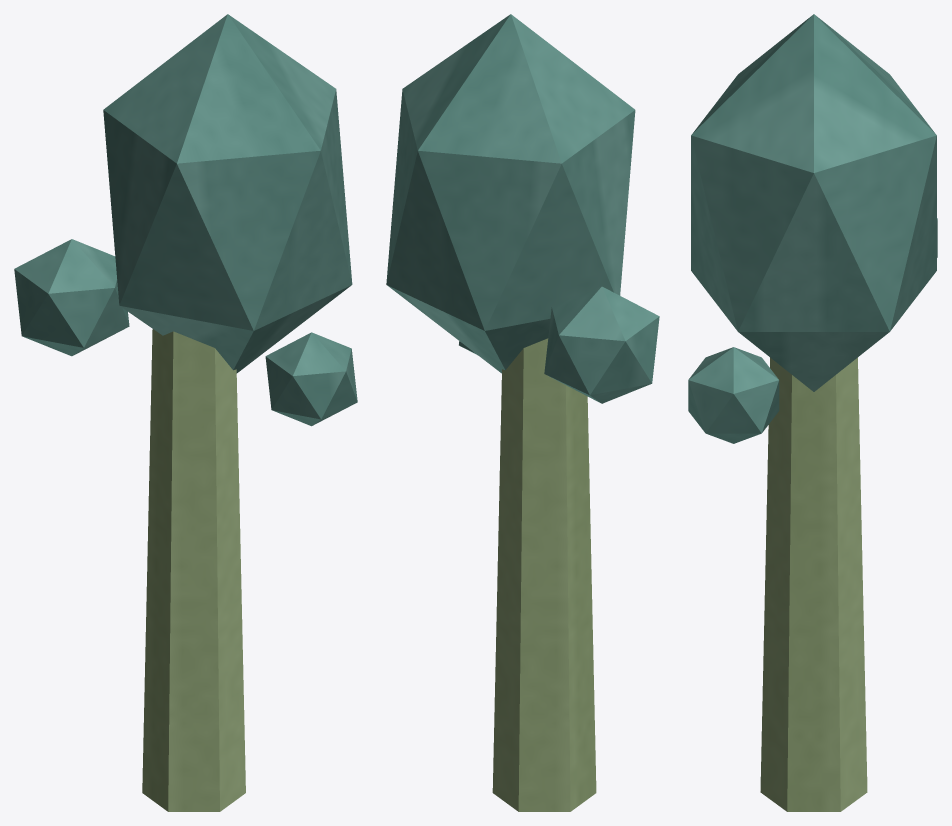
File: sm_flora_lanternbud.glb
3 renders of one model, left to right at view 1: azimuth 30°, elevation 25°; view 2: azimuth 150°, elevation 25°; view 3: azimuth 270°, elevation 25°, orthographic. The views are drawn at different scales.
Parts seen in each view (by area): view 1: sm_flora_lanternbud; view 2: sm_flora_lanternbud; view 3: sm_flora_lanternbud.
Boxes of the visible parts, <box> form: sm_flora_lanternbud: <box>14,14,357,811</box>; sm_flora_lanternbud: <box>386,14,659,811</box>; sm_flora_lanternbud: <box>688,14,937,811</box>.
Size of the model in its own units: 0.2513 by 0.656 by 0.1866.
1 material, 1 textured.
